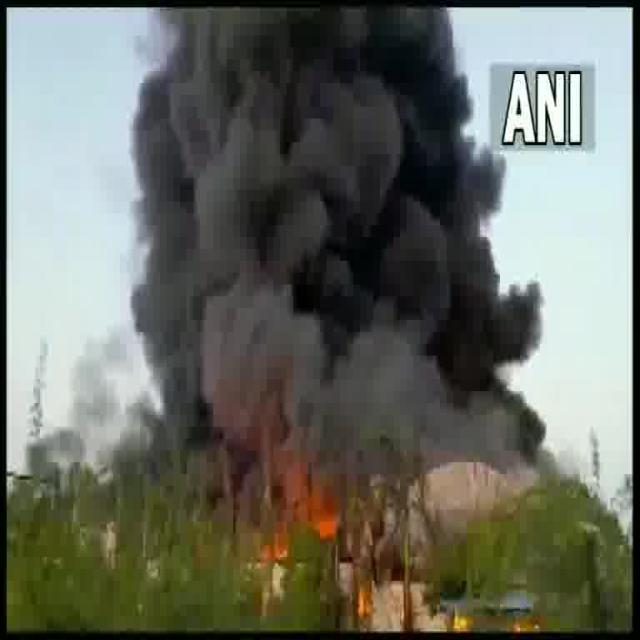smoke: (162, 16, 467, 459)
